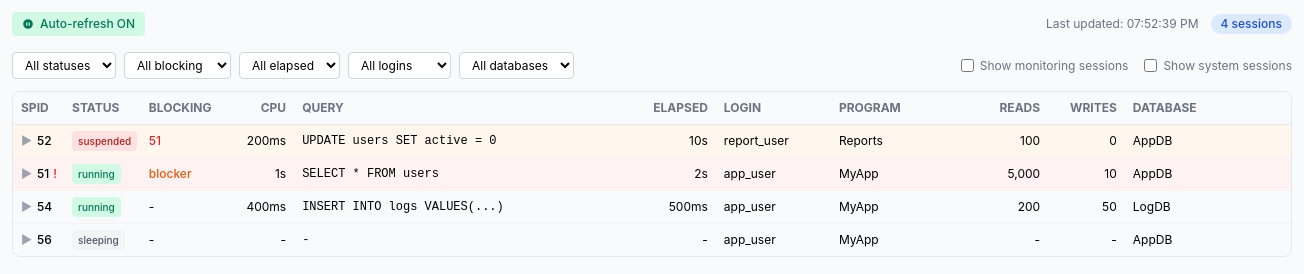
Test: CurrentActivity › filters by status
The width and height of the screenshot is (1304, 274).
Step 1. Select "Running" in the dropdown with test id "filter-status" → (64, 66), box [12,52,116,79]
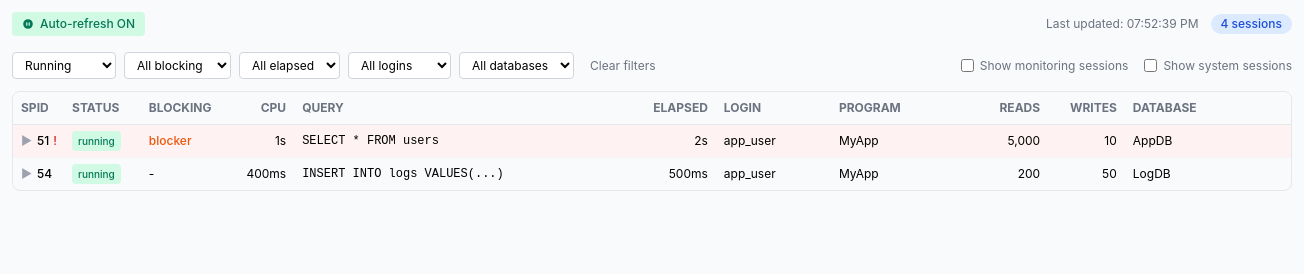
Expected: the row with test id "session-row-51" is shown, [13,124,1291,158]
Result: the row with test id "session-row-52" is gone
